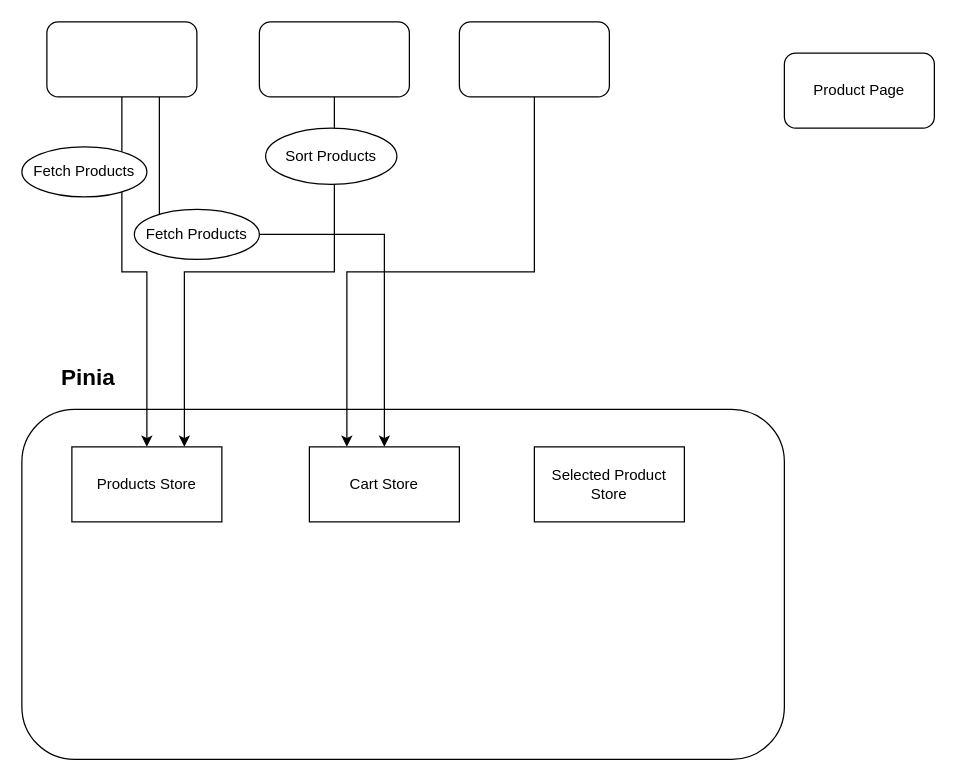
The diagram is 956 pixels wide and 781 high, and some of its shapes have lost their labels. Here are the shapes that lost their labels. From the top down, the box of each, then its label:
(46, 21, 197, 97): Products Page
(258, 21, 409, 97): Sort Dropdown
(458, 21, 609, 97): Side Cart
